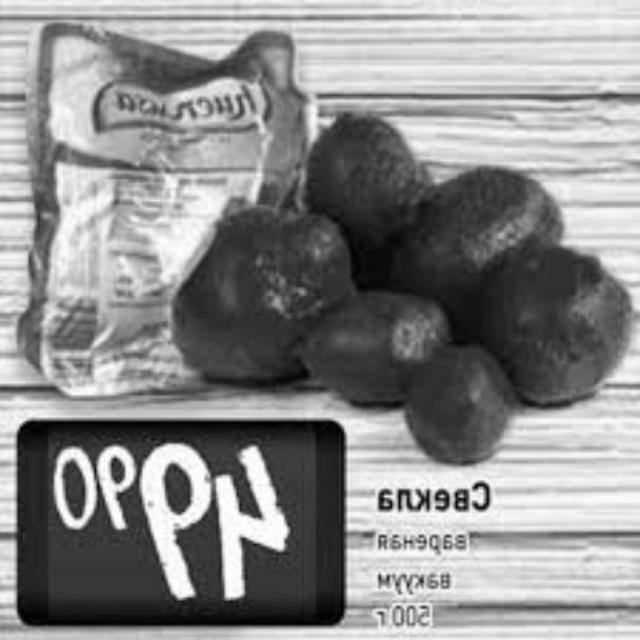cu cai duong: (162, 198, 358, 394), (462, 238, 631, 418), (391, 162, 565, 314), (300, 105, 440, 268), (285, 281, 450, 410), (407, 344, 515, 473)
